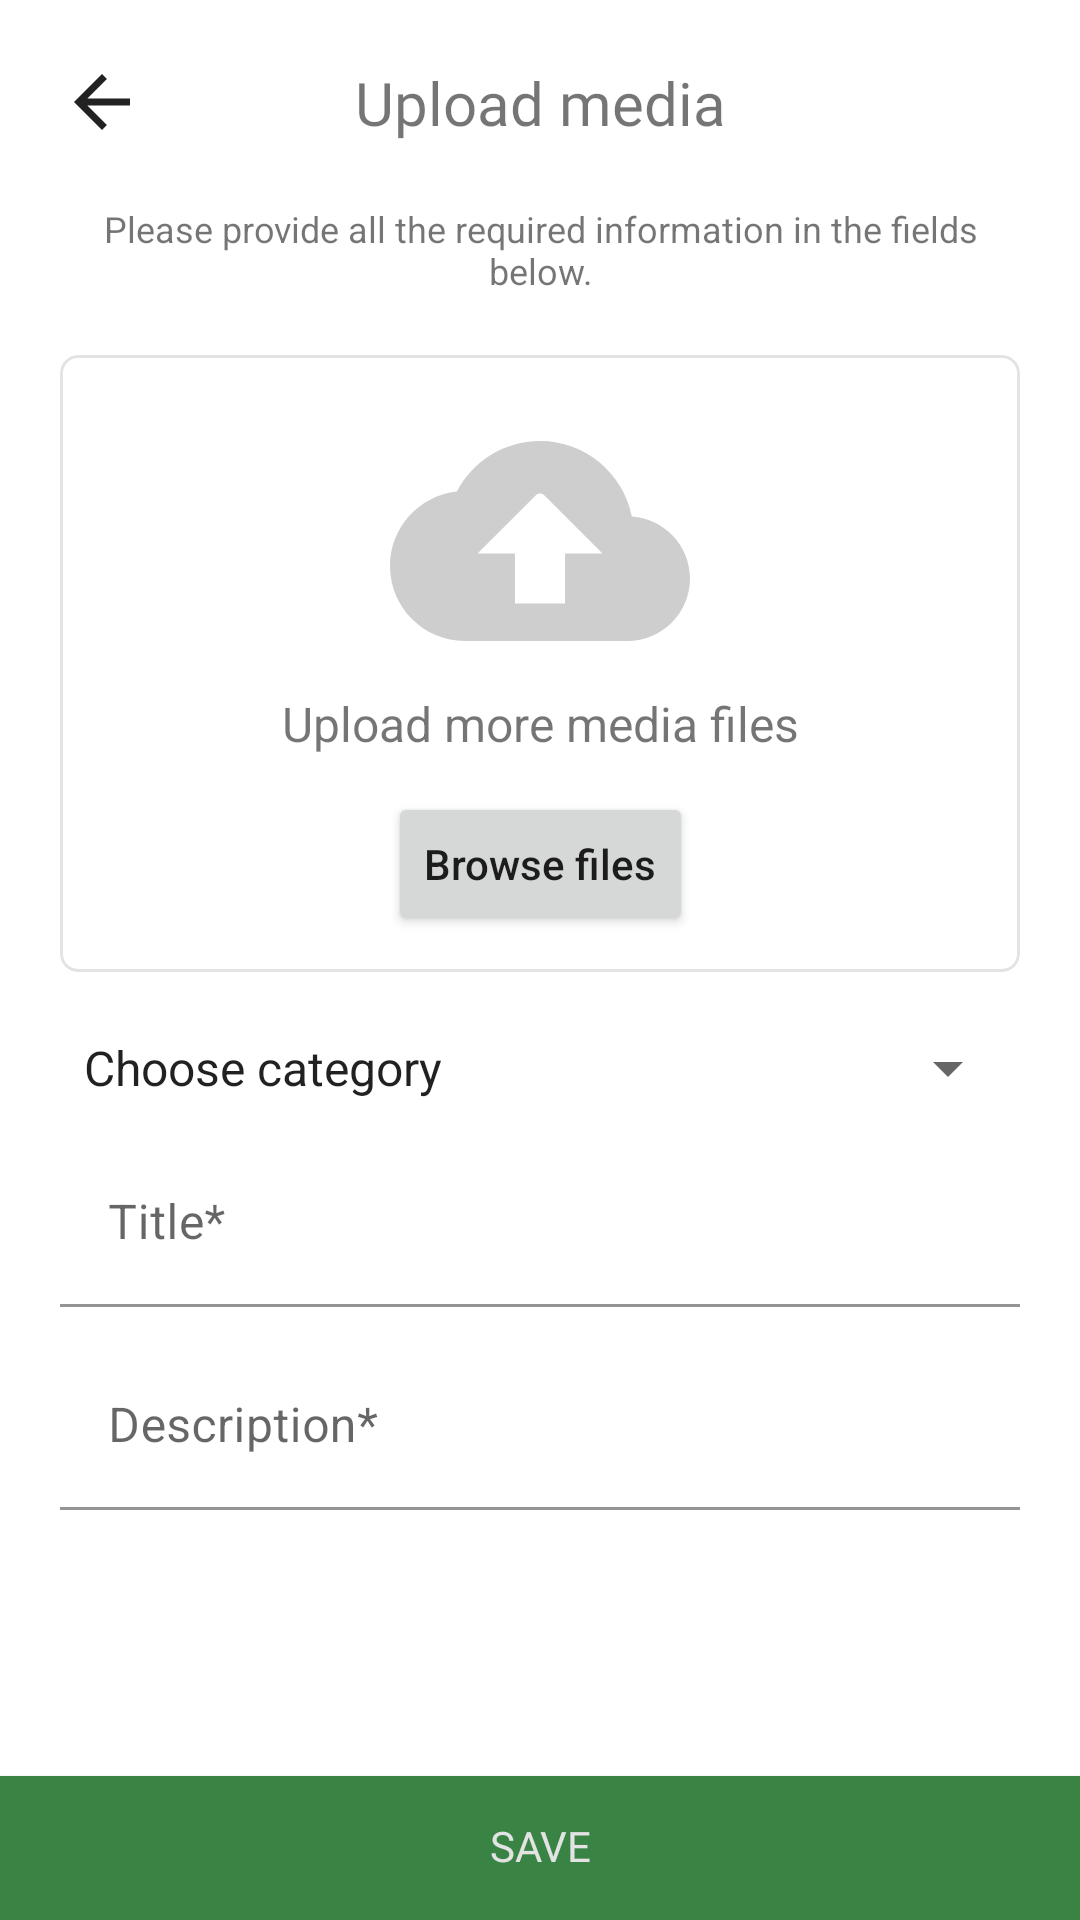

Icon bounding boxes for this 1080px×1920px phone screenshot, format (x1, y1, x2, y2):
arrow back: (74, 74, 130, 130)
